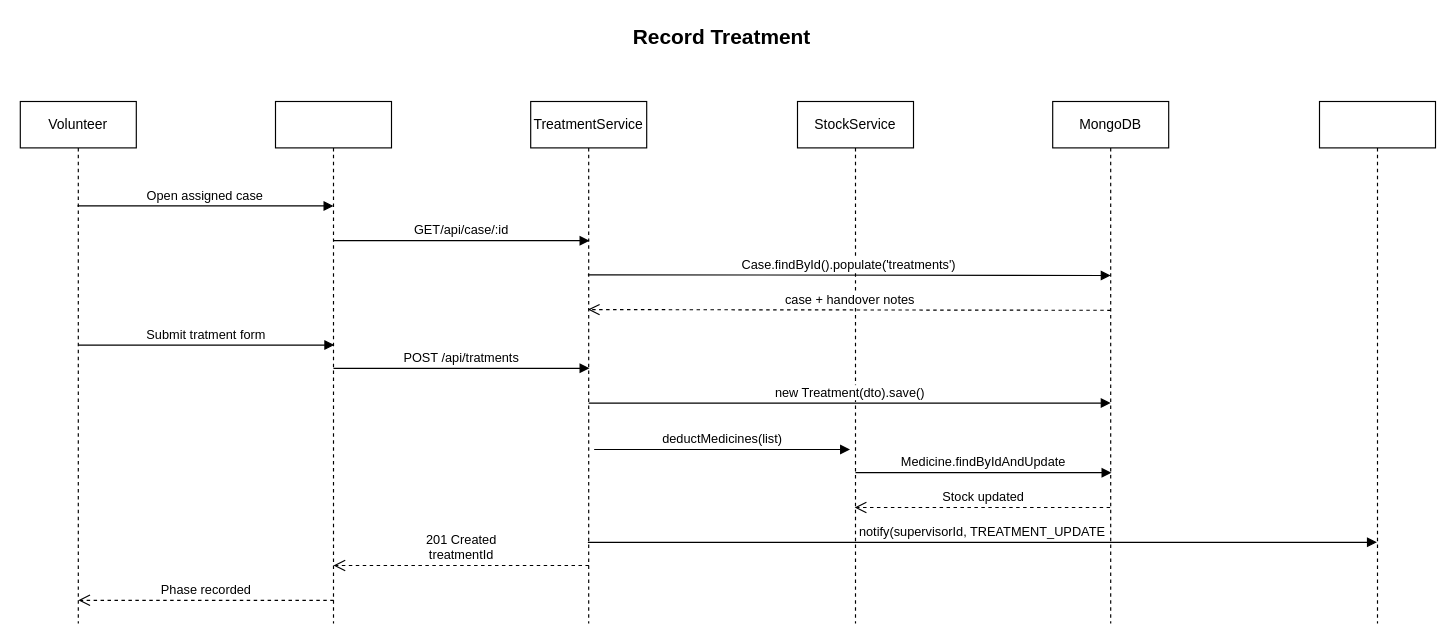
This 1456x644 diagram has some shape labels left out. The shapes that lost their labels are listed below. From the top down, each one's box as (x1, y1, x2, y2) in pixels, then its label:
(274, 100, 392, 624): React UI
(1318, 100, 1436, 624): NotificationService
